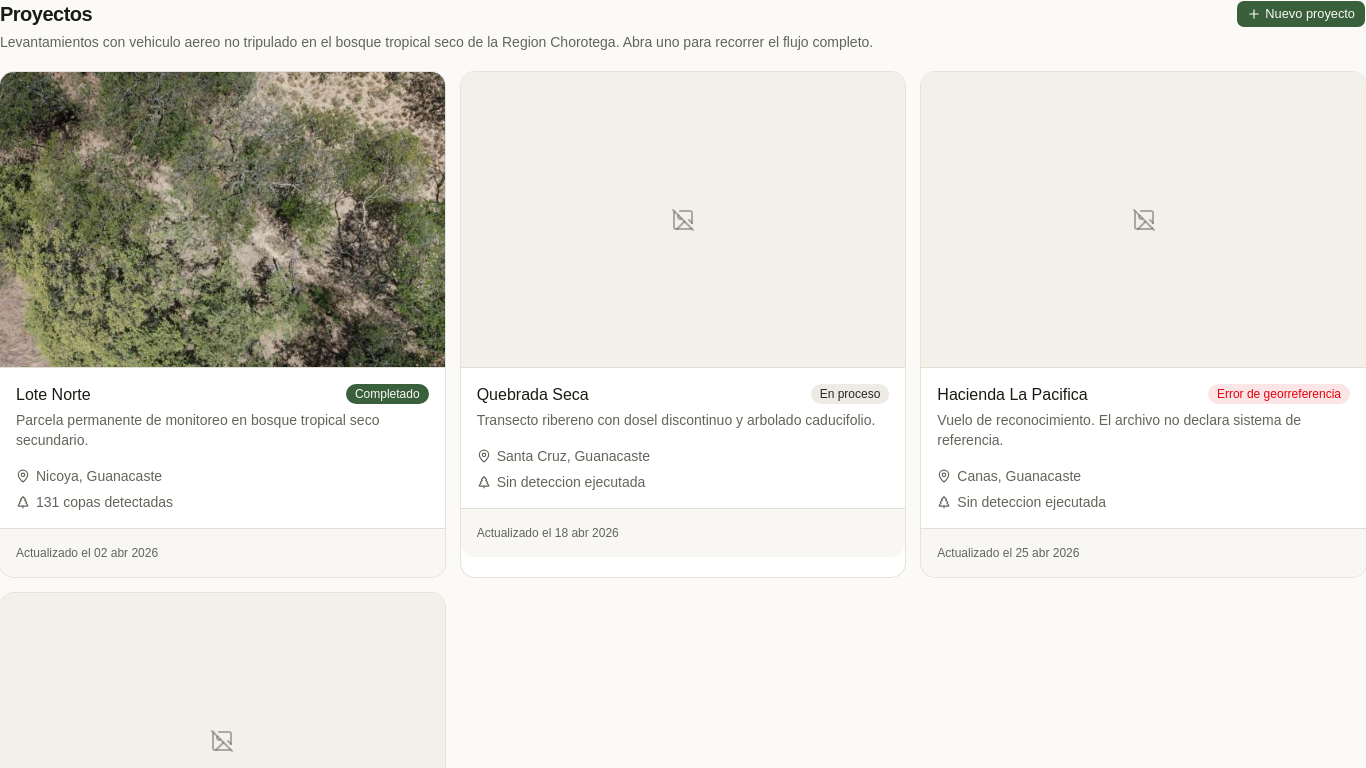
Test: crear un proyecto › no deja enviar sin nombre
The width and height of the screenshot is (1366, 768).
Expected: the link "Lote Norte" is shown, [16,384,91,406]
Click the button "Nuevo proyecto" at (1301, 14), box [1236,0,1365,28]
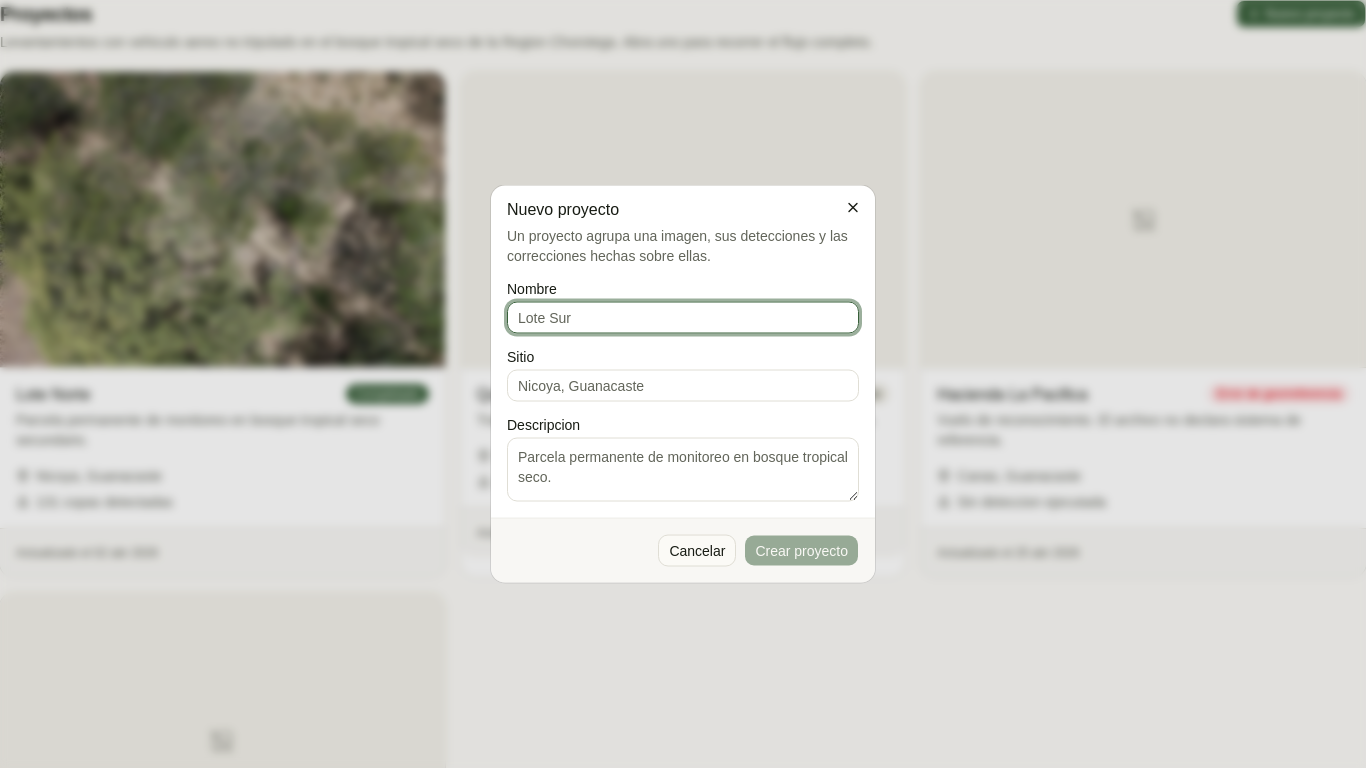
Expected: the button "Crear proyecto" is disabled, [744,534,859,566]
